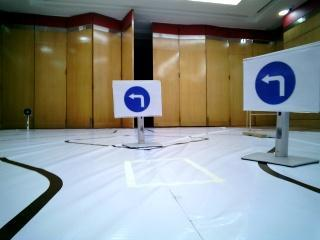left: (246, 59, 307, 109), (113, 82, 153, 114)
